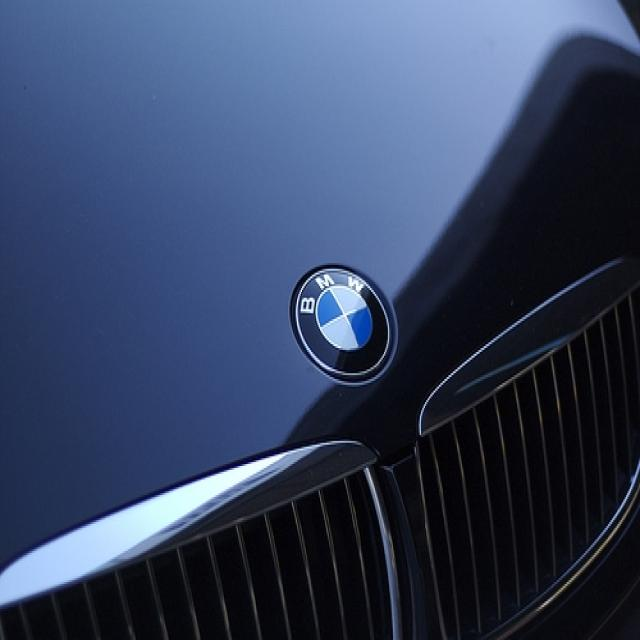bmw: (288, 260, 399, 390)
